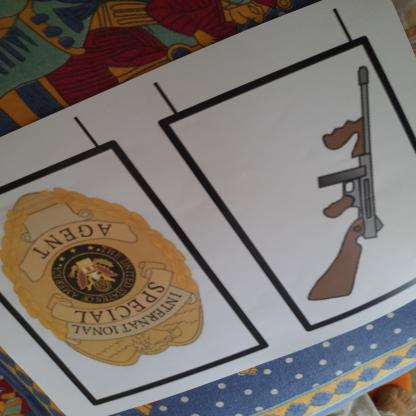Bootlegger: (274, 58, 398, 312)
G-man: (3, 191, 213, 374)
